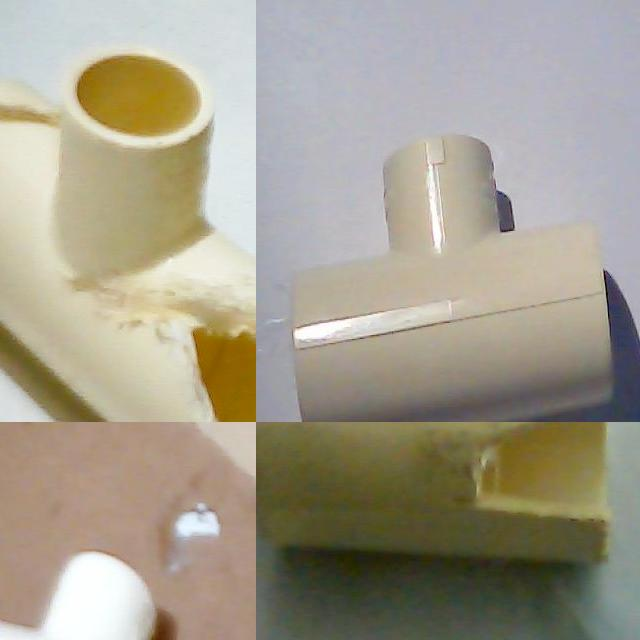Defective: (100, 267, 256, 422), (470, 422, 611, 522), (0, 72, 61, 142)
T Joint: (290, 134, 619, 422), (256, 422, 613, 570)
